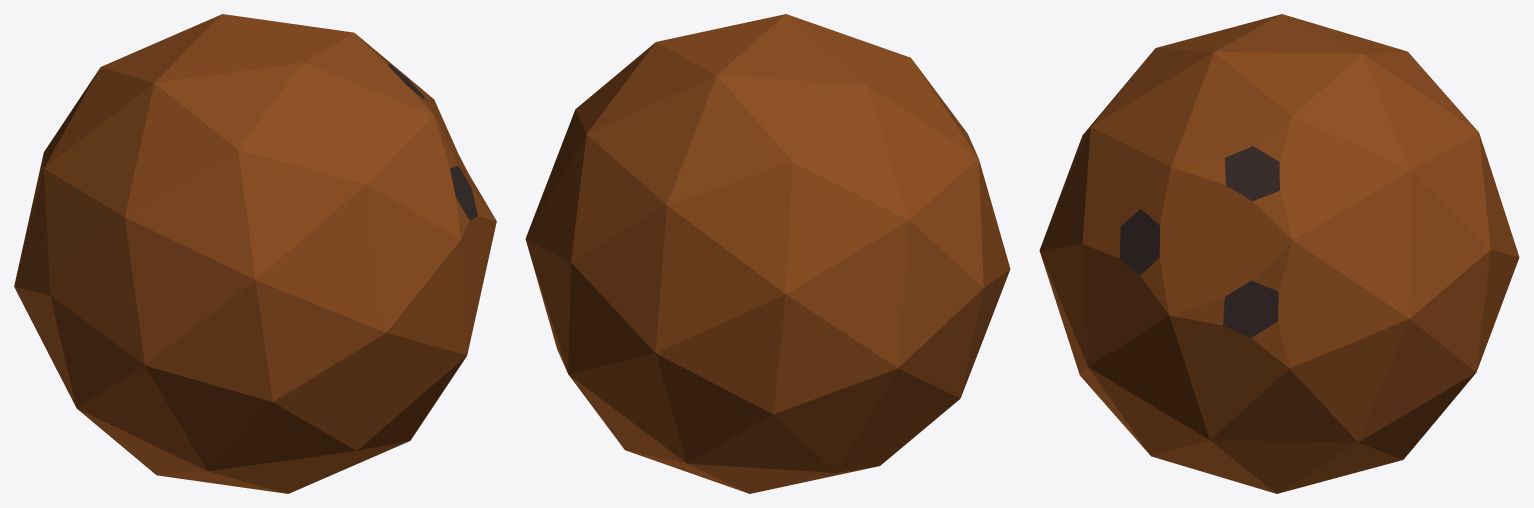
The model's file is Coconut.fbx.
3 views of the same model, side by side, from view 1: azimuth 30°, elevation 25°; view 2: azimuth 150°, elevation 25°; view 3: azimuth 270°, elevation 25° (orthographic).
Parts seen in each view (by area): view 1: Coconut; view 2: Coconut; view 3: Coconut.
Boxes of the visible parts, box(x1,y1,x2,y2) form: Coconut: box(14, 14, 496, 493); Coconut: box(525, 14, 1010, 493); Coconut: box(1039, 14, 1519, 493).
Bounding box in the file's own units: 0.3436 × 0.3307 × 0.344.
